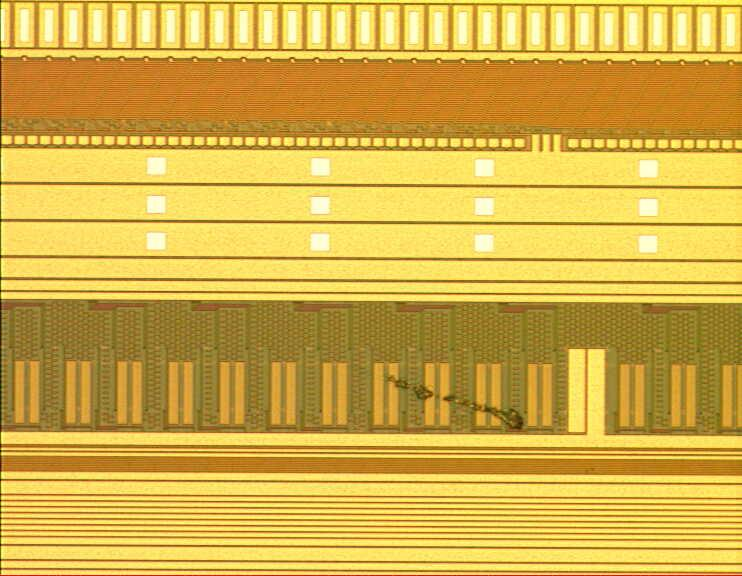SCRATCH: (337, 352, 537, 443)
